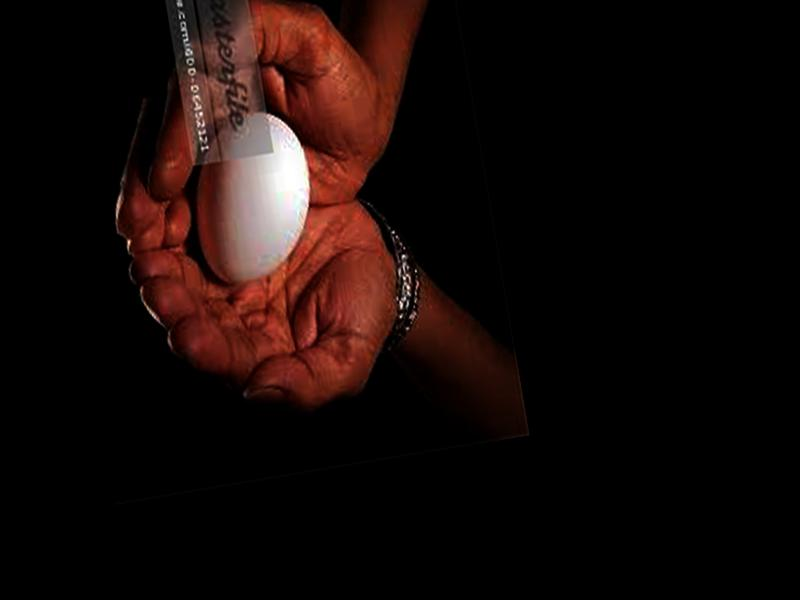Eggs: (178, 111, 323, 290)
